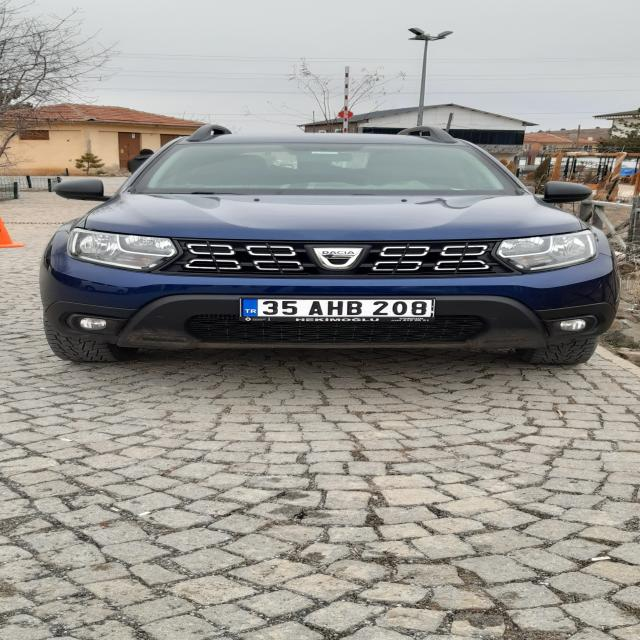license_plate: (241, 298, 432, 317)
